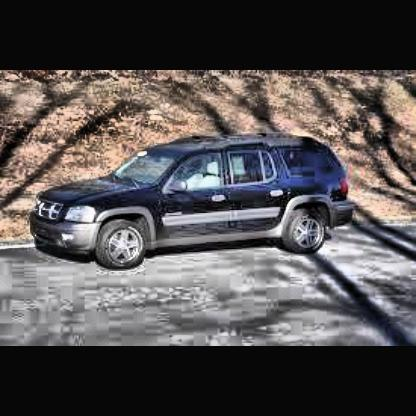Isuzu Ascender SUV 2008: (32, 132, 360, 274)
